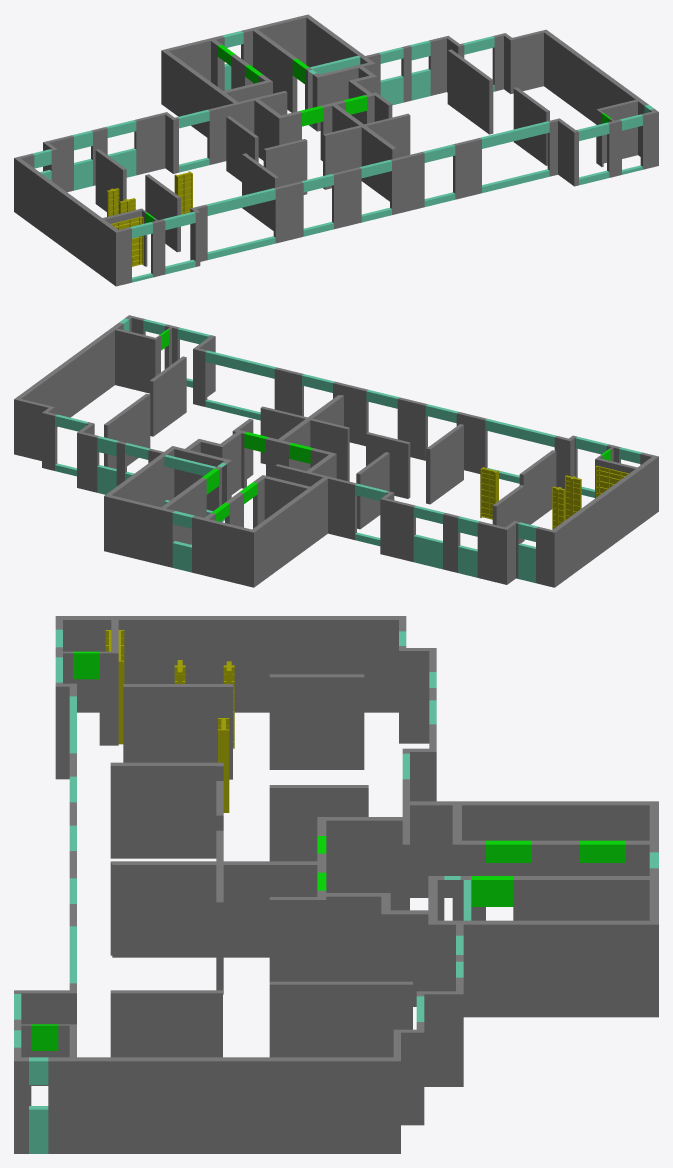
The model's file is IFCTest_dae.dae.
The picture shows the model from 3 angles, top to bottom: view 1: azimuth 30°, elevation 25°; view 2: azimuth 150°, elevation 25°; view 3: azimuth 270°, elevation 25°; orthographic projection. The views are drawn at different scales.
Visible parts, largest first — view 1: 1po6f0wxj2AuXC7M5DzclM, 1po6f0wxj2AuXC7M5DzclN, 1po6f0wxj2AuXC7M5DzclL, 1po6f0wxj2AuXC7M5DzclR, 1po6f0wxj2AuXC7M5Dzcld, 1po6f0wxj2AuXC7M5DzclQ, 1po6f0wxj2AuXC7M5Dzcle, 1po6f0wxj2AuXC7M5DzclW, 1po6f0wxj2AuXC7M5Dzcl$, 1po6f0wxj2AuXC7M5DzclK, 1po6f0wxj2AuXC7M5DzclP, 1po6f0wxj2AuXC7M5Dzcll (+49 smaller); view 2: 1po6f0wxj2AuXC7M5DzclM, 1po6f0wxj2AuXC7M5DzclL, 1po6f0wxj2AuXC7M5DzclN, 1po6f0wxj2AuXC7M5DzclP, 1po6f0wxj2AuXC7M5DzclO, 1po6f0wxj2AuXC7M5DzclK, 1po6f0wxj2AuXC7M5Dzclg, 1po6f0wxj2AuXC7M5Dzcld, 1po6f0wxj2AuXC7M5DzclU, 1po6f0wxj2AuXC7M5Dzcll, 1po6f0wxj2AuXC7M5DzclR, 1po6f0wxj2AuXC7M5DzclT (+46 smaller); view 3: 1po6f0wxj2AuXC7M5DzclN, 1po6f0wxj2AuXC7M5DzclM, 1po6f0wxj2AuXC7M5DzclK, 1po6f0wxj2AuXC7M5DzclW, 1po6f0wxj2AuXC7M5DzclL, 1po6f0wxj2AuXC7M5DzclR, 1po6f0wxj2AuXC7M5DzclV, 1po6f0wxj2AuXC7M5DzclX, 1po6f0wxj2AuXC7M5DzclT, 1po6f0wxj2AuXC7M5DzclU, 1po6f0wxj2AuXC7M5DzclQ, 1po6f0wxj2AuXC7M5Dzclm (+28 smaller).
Boxes of the visible parts, left/top/right/bottom form: 1po6f0wxj2AuXC7M5DzclM: left=14, top=157, right=120, bottom=286; 1po6f0wxj2AuXC7M5DzclN: left=542, top=29, right=648, bottom=156; 1po6f0wxj2AuXC7M5DzclL: left=161, top=49, right=237, bottom=137; 1po6f0wxj2AuXC7M5DzclR: left=447, top=49, right=493, bottom=134; 1po6f0wxj2AuXC7M5Dzcld: left=207, top=91, right=287, bottom=164; 1po6f0wxj2AuXC7M5DzclQ: left=253, top=29, right=297, bottom=112; 1po6f0wxj2AuXC7M5Dzcle: left=508, top=30, right=543, bottom=93; 1po6f0wxj2AuXC7M5DzclW: left=332, top=104, right=396, bottom=201; 1po6f0wxj2AuXC7M5Dzcl$: left=390, top=152, right=424, bottom=214; 1po6f0wxj2AuXC7M5DzclK: left=304, top=14, right=375, bottom=74; 1po6f0wxj2AuXC7M5DzclP: left=241, top=15, right=306, bottom=84; 1po6f0wxj2AuXC7M5Dzcll: left=134, top=112, right=168, bottom=175; 1po6f0wxj2AuXC7M5DzclM: left=550, top=455, right=658, bottom=587; 1po6f0wxj2AuXC7M5DzclL: left=249, top=477, right=327, bottom=587; 1po6f0wxj2AuXC7M5DzclN: left=14, top=322, right=123, bottom=455; 1po6f0wxj2AuXC7M5DzclP: left=108, top=495, right=175, bottom=567; 1po6f0wxj2AuXC7M5DzclO: left=192, top=515, right=251, bottom=586; 1po6f0wxj2AuXC7M5DzclK: left=104, top=446, right=176, bottom=552; 1po6f0wxj2AuXC7M5Dzclg: left=115, top=328, right=157, bottom=393; 1po6f0wxj2AuXC7M5Dzcld: left=275, top=464, right=356, bottom=539; 1po6f0wxj2AuXC7M5DzclU: left=149, top=356, right=186, bottom=436; 1po6f0wxj2AuXC7M5Dzcll: left=380, top=497, right=415, bottom=561; 1po6f0wxj2AuXC7M5DzclR: left=104, top=393, right=150, bottom=468; 1po6f0wxj2AuXC7M5DzclT: left=519, top=450, right=556, bottom=524; 1po6f0wxj2AuXC7M5DzclN: left=48, top=1057, right=400, bottom=1153; 1po6f0wxj2AuXC7M5DzclM: left=55, top=616, right=406, bottom=712; 1po6f0wxj2AuXC7M5DzclK: left=428, top=920, right=658, bottom=1017; 1po6f0wxj2AuXC7M5DzclW: left=112, top=861, right=317, bottom=957; 1po6f0wxj2AuXC7M5DzclL: left=410, top=801, right=658, bottom=897; 1po6f0wxj2AuXC7M5DzclR: left=269, top=981, right=412, bottom=1057; 1po6f0wxj2AuXC7M5DzclV: left=110, top=762, right=216, bottom=858; 1po6f0wxj2AuXC7M5DzclX: left=269, top=674, right=364, bottom=769; 1po6f0wxj2AuXC7M5DzclT: left=123, top=684, right=232, bottom=779; 1po6f0wxj2AuXC7M5DzclU: left=110, top=990, right=222, bottom=1057; 1po6f0wxj2AuXC7M5DzclQ: left=513, top=876, right=649, bottom=920; 1po6f0wxj2AuXC7M5Dzclm: left=317, top=817, right=402, bottom=910.
Bounding box in the file's own units: 28.35 × 17.36 × 2.75.
